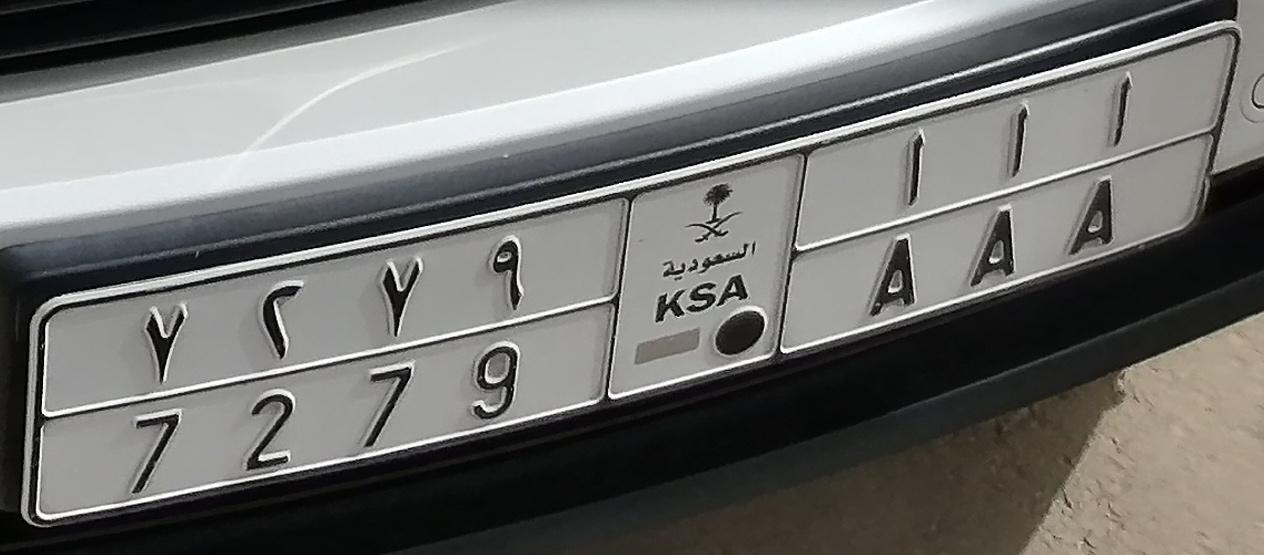2: (241, 280, 308, 473)
7: (122, 302, 195, 498), (362, 255, 425, 450)
9: (465, 230, 529, 425)
A: (1063, 65, 1137, 258), (865, 132, 934, 319), (969, 102, 1033, 288)
